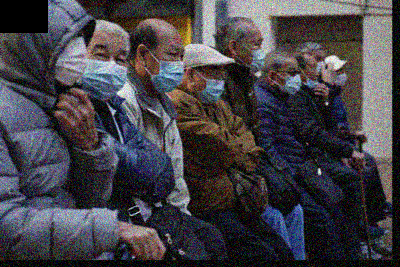mask_weared_incorrect: (304, 62, 320, 91)
with_mask: (82, 42, 128, 103), (53, 32, 88, 88), (149, 43, 185, 96), (197, 66, 225, 106), (243, 35, 266, 75), (277, 64, 303, 97), (314, 54, 327, 79), (334, 68, 349, 88)
